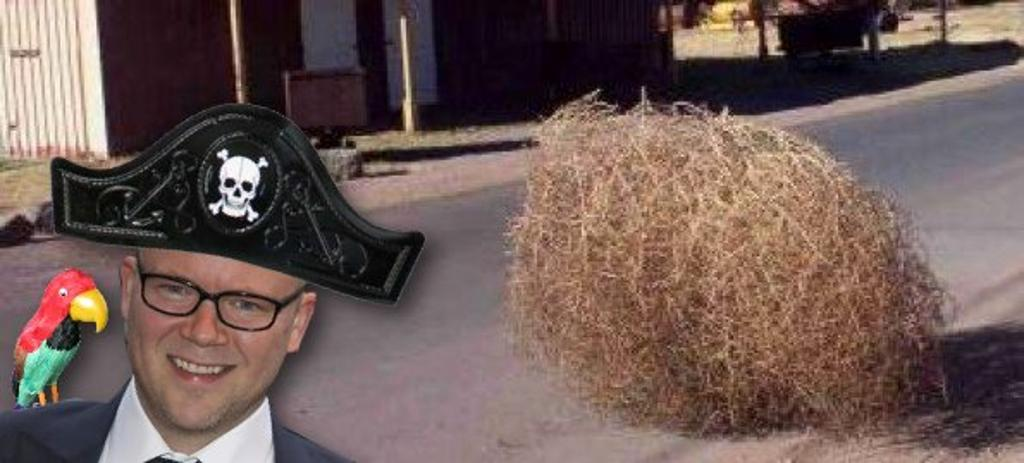face: (135, 229, 291, 429)
